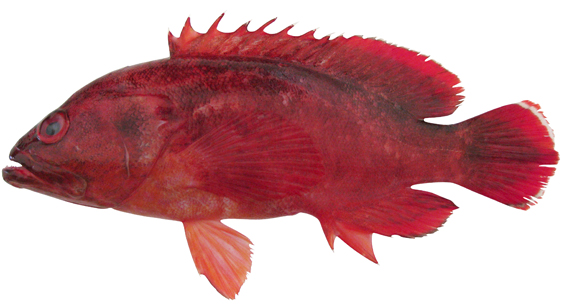fish: (3, 13, 559, 303)
